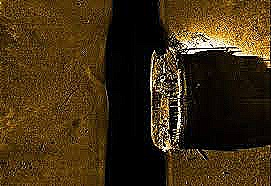ship: (149, 45, 190, 154)
